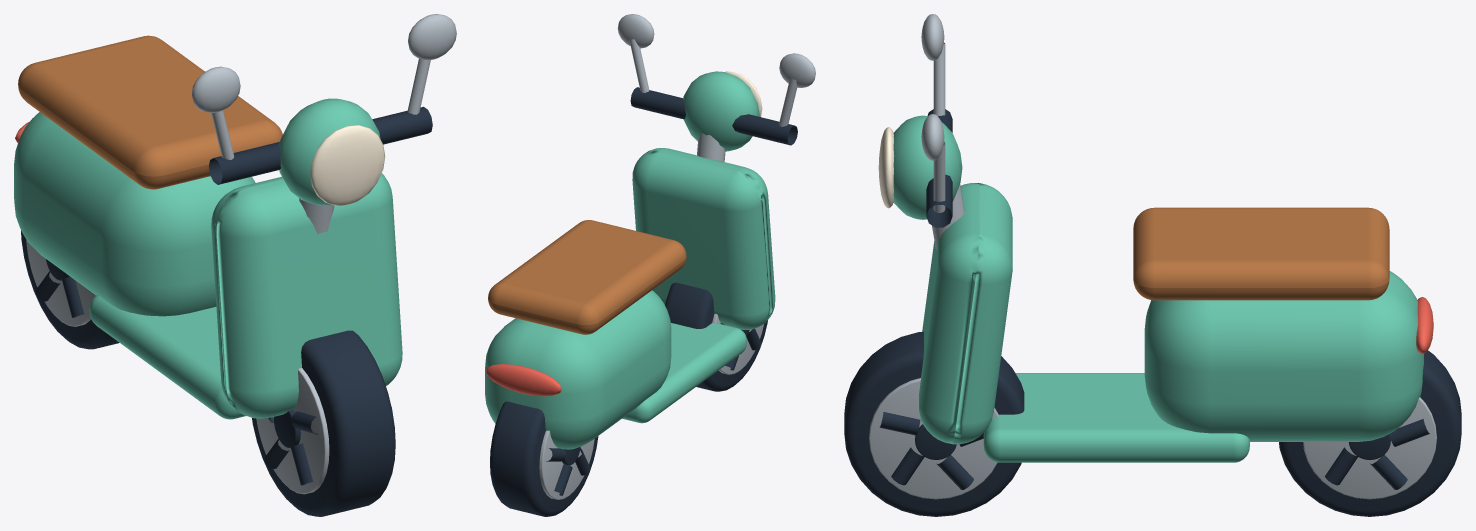
Rendered from scooter.glb.
3 renders of one model, left to right at view 1: azimuth 30°, elevation 25°; view 2: azimuth 150°, elevation 25°; view 3: azimuth 270°, elevation 25°, orthographic. The views are drawn at different scales.
Parts seen in each view (by area): view 1: Mint, Honey bear, Ink, Satin alloy, Porcelain; view 2: Mint, Honey bear, Ink, Satin alloy, Coral; view 3: Mint, Honey bear, Ink, Satin alloy, Porcelain, Coral.
Boxes of the visible parts, x1,y1,x2,y2 form: Mint: (14, 98, 402, 419); Honey bear: (18, 35, 282, 189); Ink: (21, 106, 432, 516); Satin alloy: (26, 14, 456, 494); Porcelain: (310, 125, 385, 205); Mint: (485, 71, 775, 449); Honey bear: (488, 220, 686, 334); Ink: (490, 87, 797, 516); Satin alloy: (539, 14, 815, 499); Coral: (486, 364, 561, 396); Mint: (893, 115, 1423, 462); Honey bear: (1133, 207, 1389, 300); Ink: (844, 109, 1461, 516); Satin alloy: (869, 14, 1436, 499); Porcelain: (878, 127, 894, 208); Coral: (1416, 297, 1433, 354).
Size of the model in its own units: 0.88 by 1.48 by 1.88.
